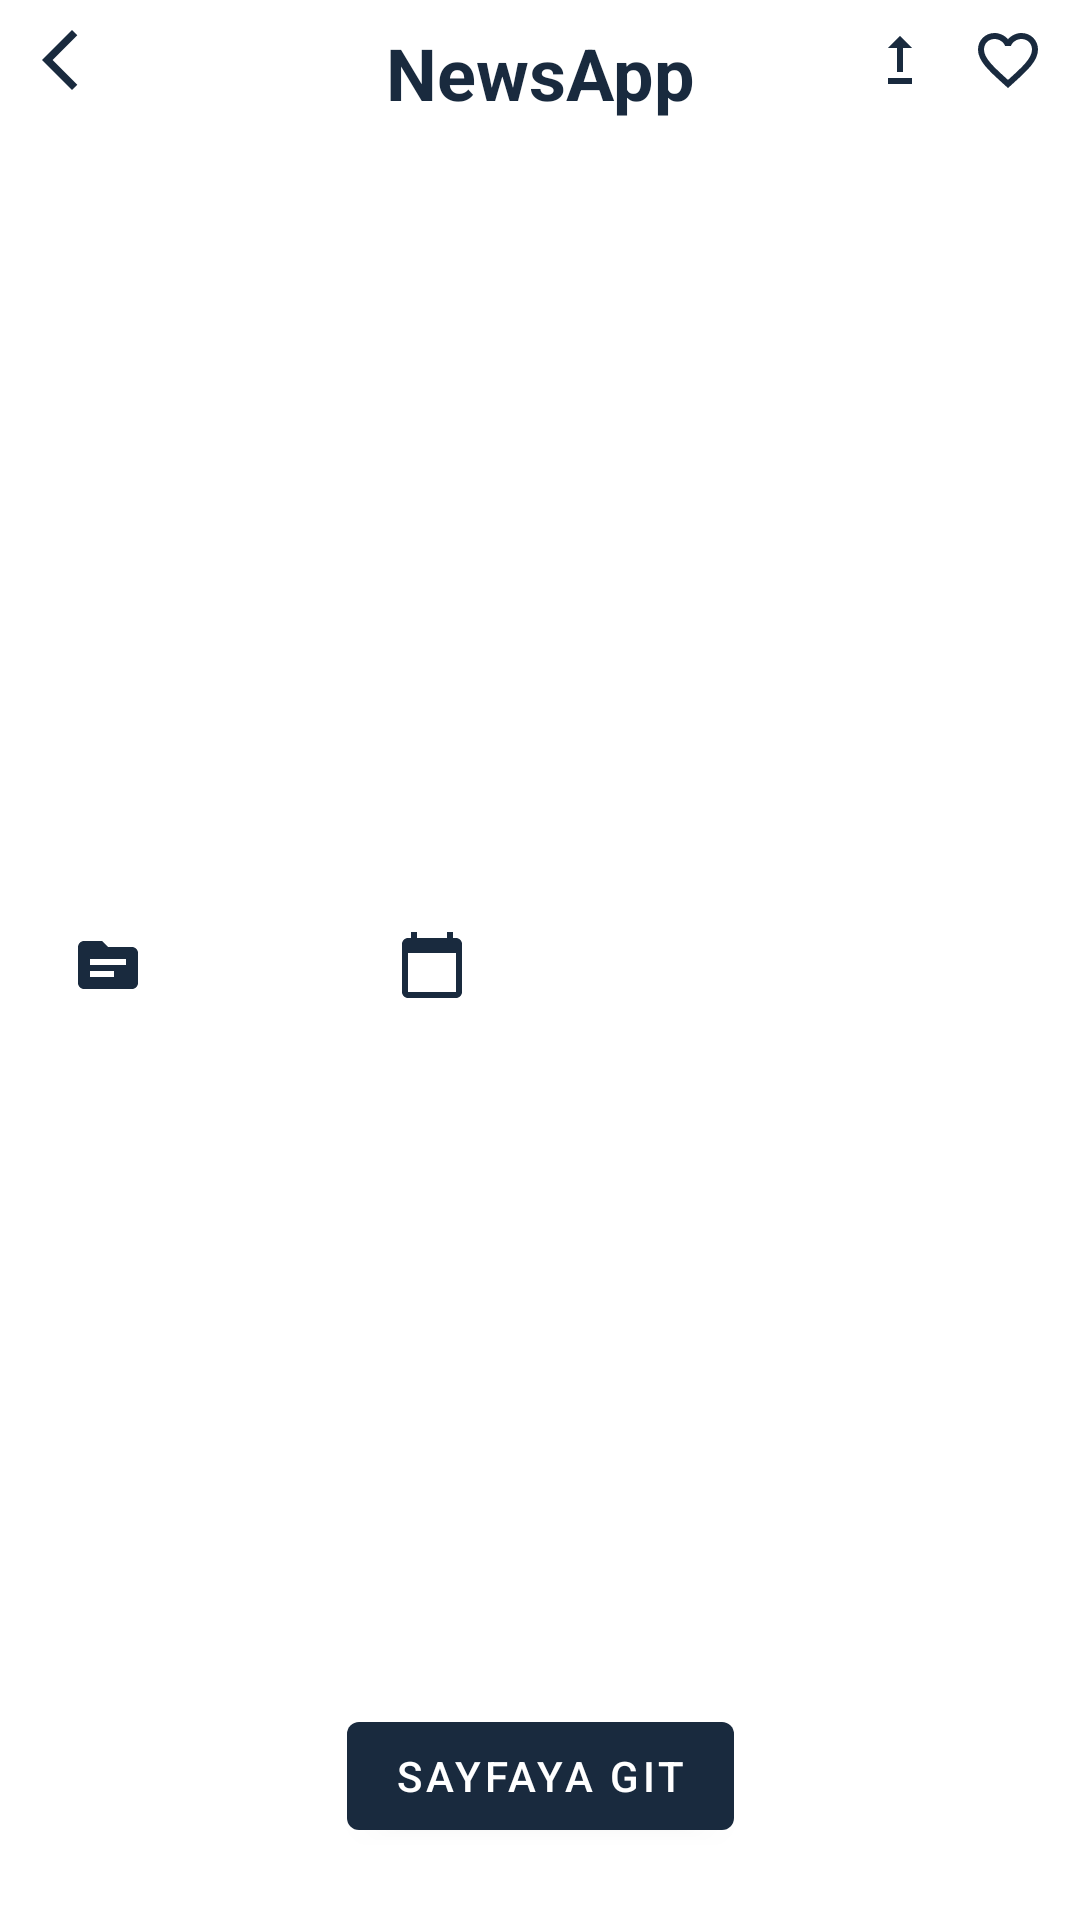

Icons on this 1080 × 1920 Android screen, each with the point to tap as (x=x, y=y):
arrow back: (x=59, y=60)
calendar today: (x=432, y=965)
favorite border: (x=1008, y=60)
source: (x=108, y=965)
upgrade: (x=900, y=60)
